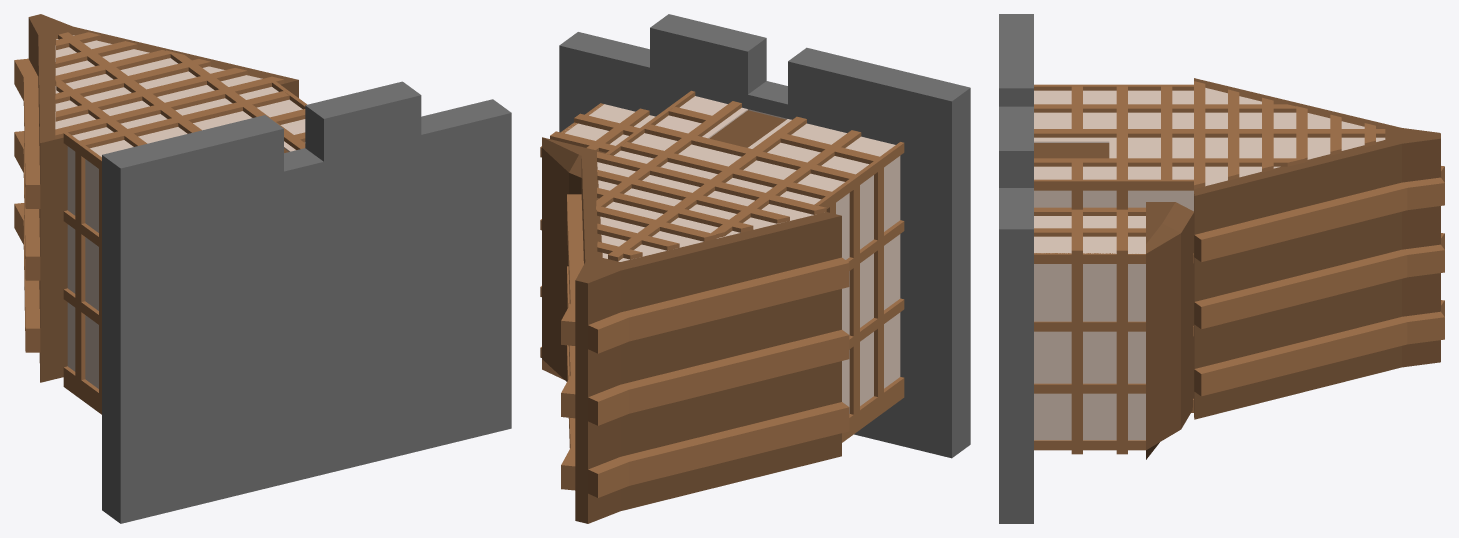
Rendered from House_01 1.fbx.
The picture shows the model from 3 angles, left to right: view 1: azimuth 30°, elevation 25°; view 2: azimuth 150°, elevation 25°; view 3: azimuth 270°, elevation 25°; orthographic projection. The views are drawn at different scales.
Parts seen in each view (by area): view 1: House_01; view 2: House_01; view 3: House_01.
Part boxes in pixels (x1,y1,x2,y2): House_01: [14, 14, 511, 523]; House_01: [540, 14, 970, 523]; House_01: [999, 14, 1444, 523].
Bounding box in the file's own units: 342 × 297 × 361.
